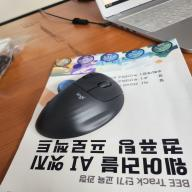mouse: (38, 70, 124, 139)
